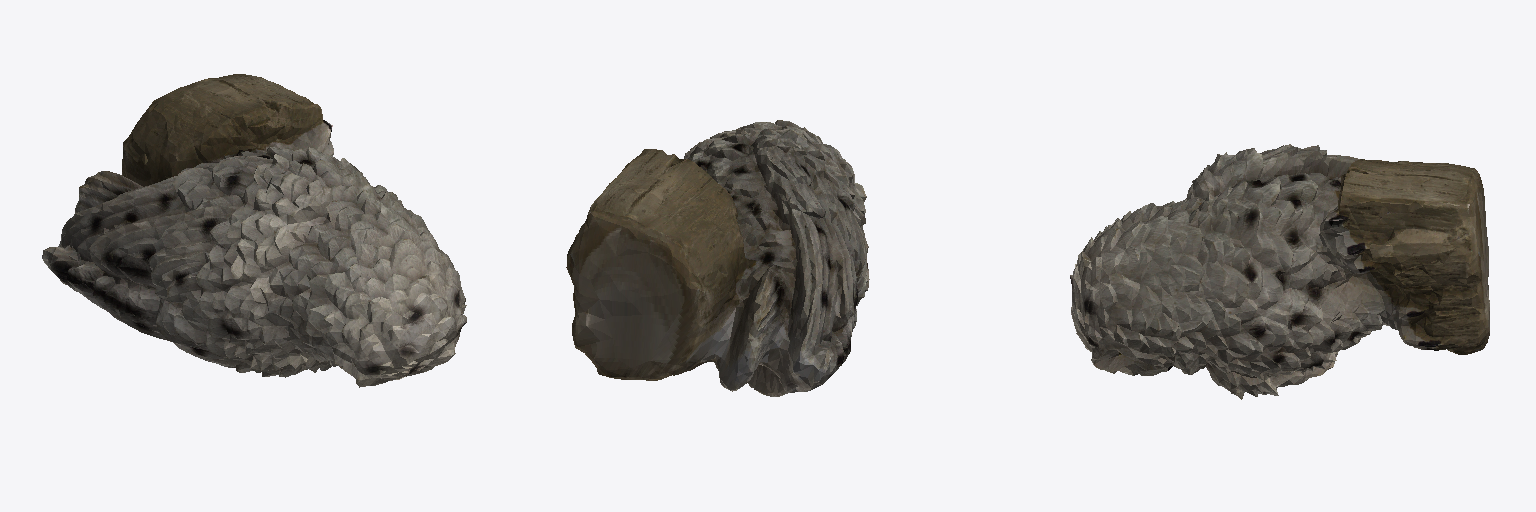
The picture shows the model from 3 angles: view 1: azimuth 30°, elevation 25°; view 2: azimuth 150°, elevation 25°; view 3: azimuth 270°, elevation 25°; orthographic projection.
Size of the model in its own units: 2.7 by 2.14 by 3.6.
Materials: 1 (1 with a texture image).